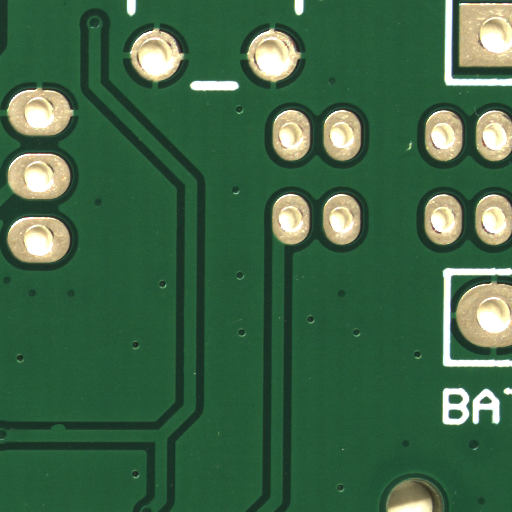Spur: (57, 425, 74, 433)
